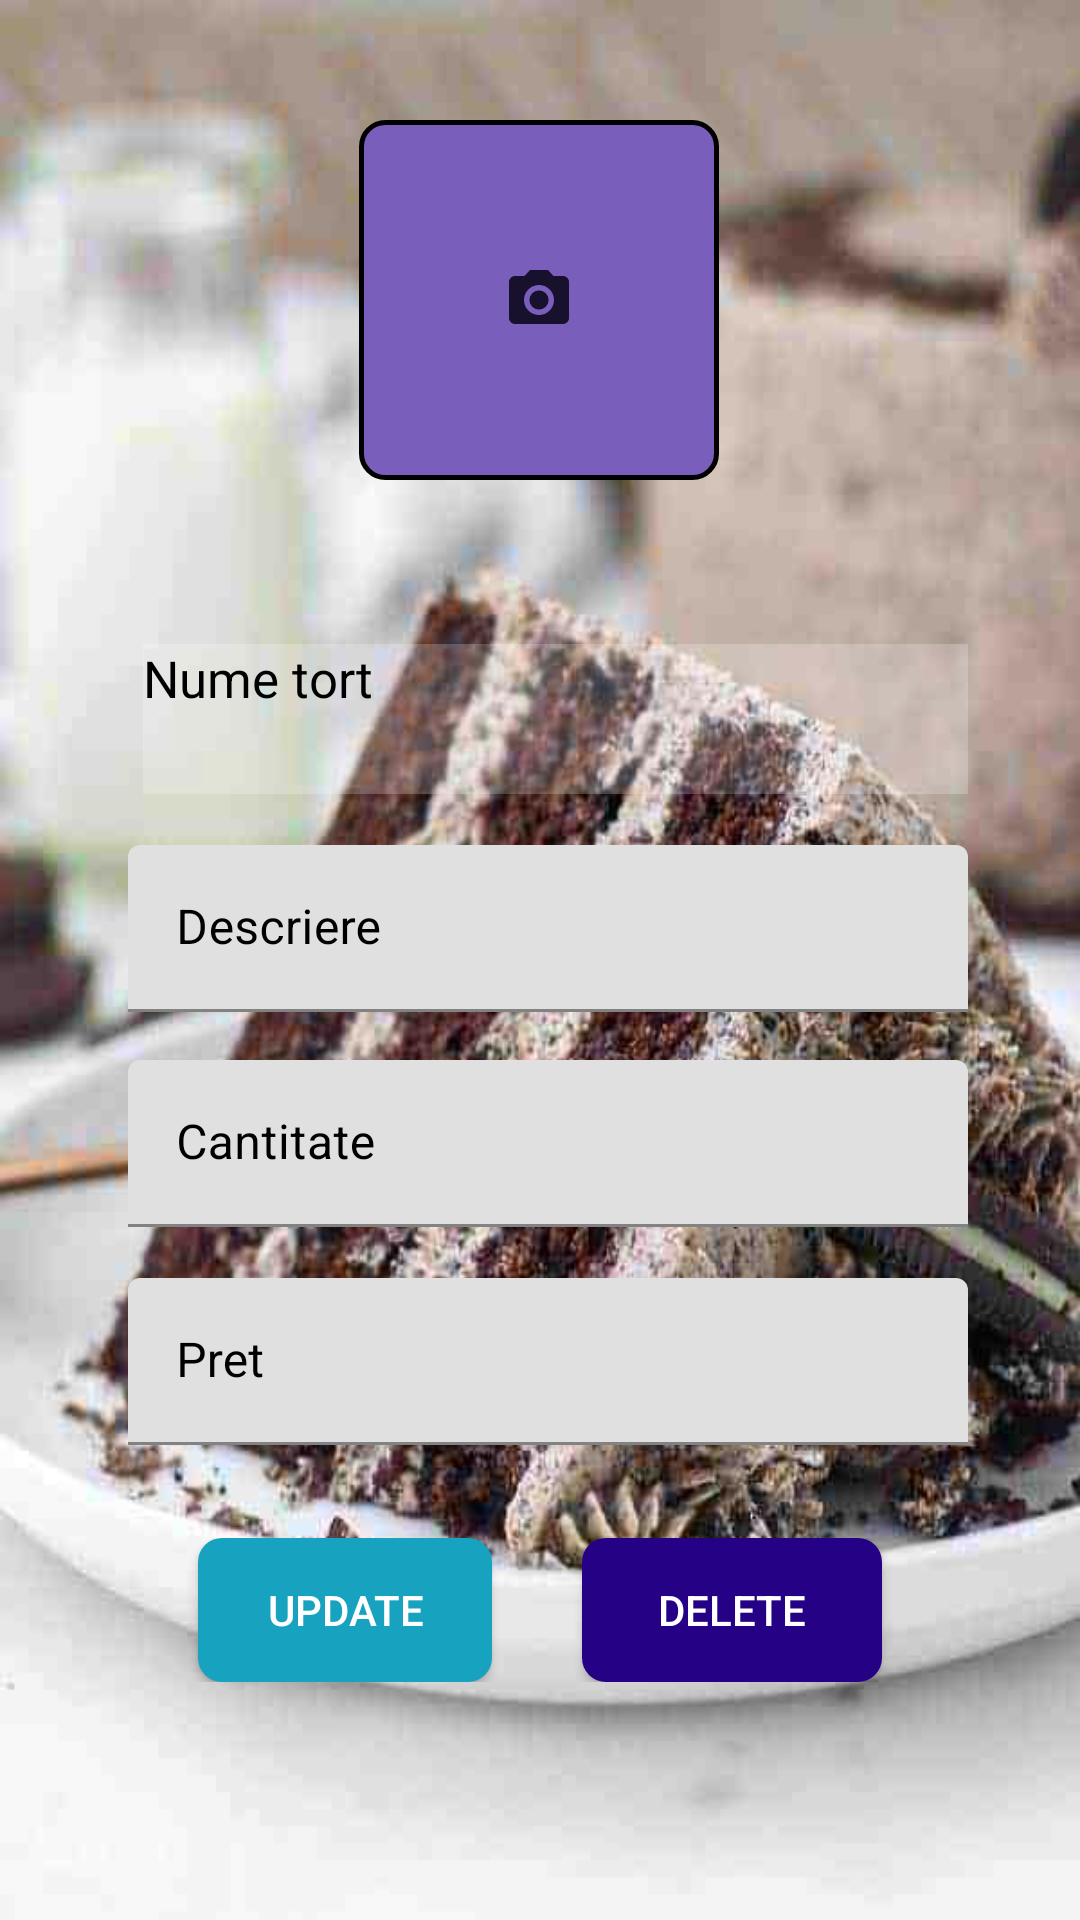

Screen size 1080x1920. Icon name, then its center in pixels as (x=x, y=y):
camera: (x=539, y=300)
